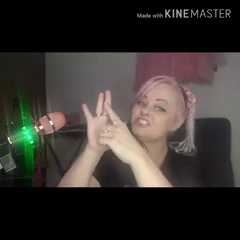J: (79, 82, 137, 166)
